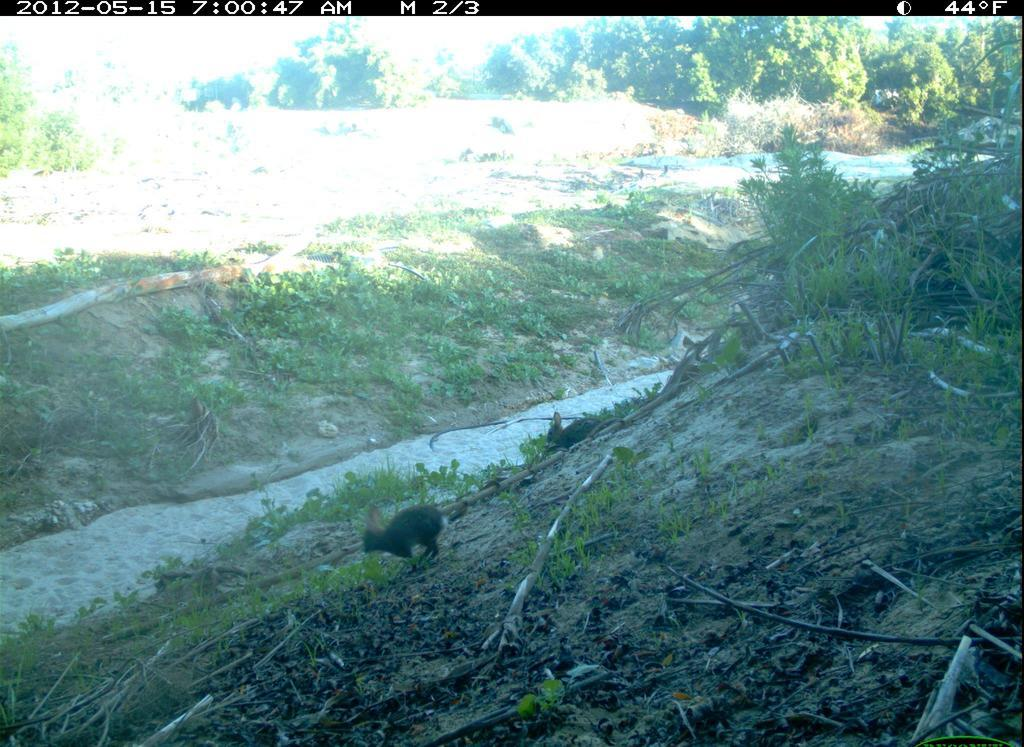rabbit: (353, 491, 473, 570), (543, 409, 616, 454)
